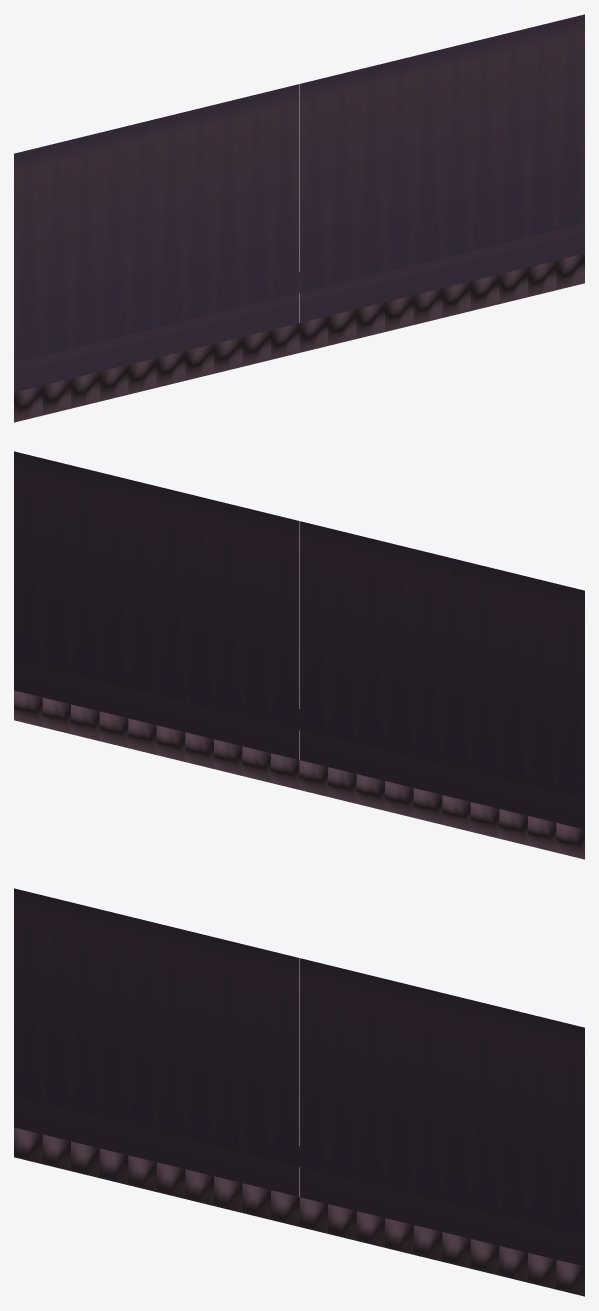
The model's file is SM_LastRooms_A.fbx.
3 renders of one model, top to bottom at view 1: azimuth 30°, elevation 25°; view 2: azimuth 150°, elevation 25°; view 3: azimuth 330°, elevation 25°, orthographic.
Visible parts, largest first — view 1: SM_BackgroundPlane.021; view 2: SM_BackgroundPlane.021; view 3: SM_BackgroundPlane.021.
Part boxes in pixels (x1,y1,x2,y2): SM_BackgroundPlane.021: [14, 14, 584, 422]; SM_BackgroundPlane.021: [14, 451, 584, 859]; SM_BackgroundPlane.021: [14, 888, 584, 1296].
Bounding box in the file's own units: 2000 × 0 × 900.
